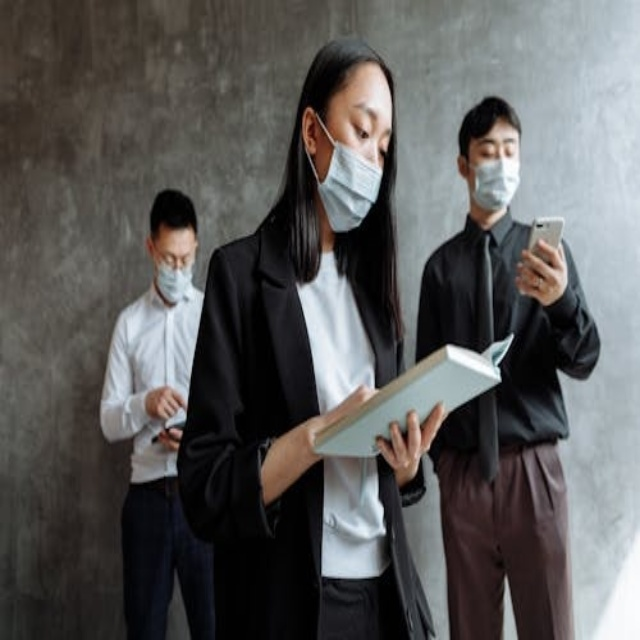Gafas: (154, 241, 197, 272)
Mascara: (308, 112, 383, 232), (468, 154, 520, 211), (153, 249, 194, 304)
Sin_gafas: (338, 96, 394, 158), (467, 133, 521, 156)
Sin_guantes: (274, 387, 374, 489), (373, 402, 447, 477), (516, 235, 568, 303), (144, 385, 185, 425)
